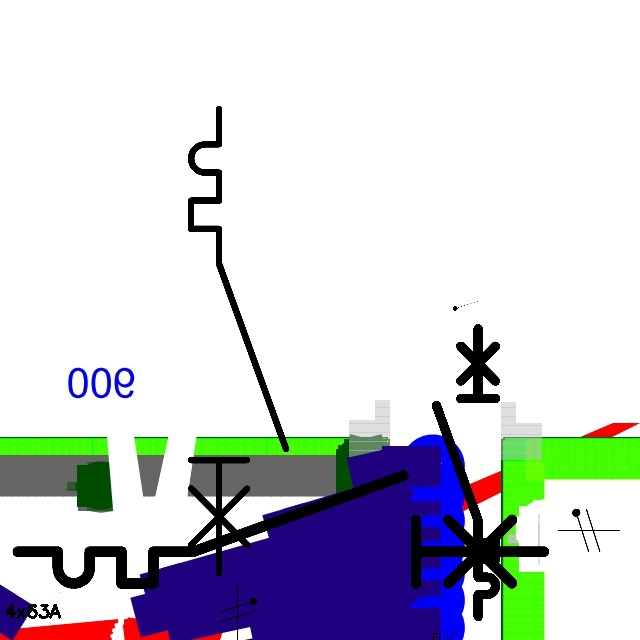interruptor_termomagnetico: (4, 462, 557, 597), (179, 97, 298, 585), (429, 321, 503, 624)
